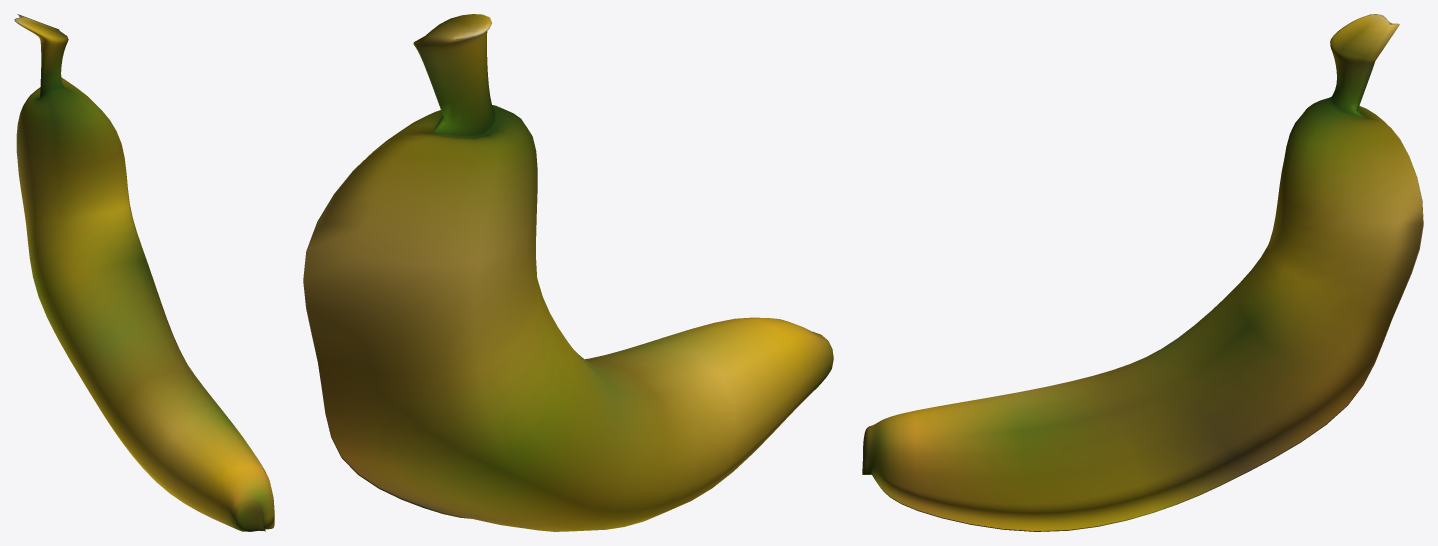
The model's file is Banana.fbx.
The picture shows the model from 3 angles, left to right: view 1: azimuth 30°, elevation 25°; view 2: azimuth 150°, elevation 25°; view 3: azimuth 270°, elevation 25°; orthographic projection. The views are drawn at different scales.
Parts seen in each view (by area): view 1: 立方体; view 2: 立方体; view 3: 立方体.
Part boxes in pixels (left/top/right/bottom): 立方体: left=14, top=14, right=274, bottom=531; 立方体: left=303, top=14, right=833, bottom=531; 立方体: left=862, top=14, right=1423, bottom=531.
Size of the model in its own units: 2.24 by 8.03 by 8.72.
